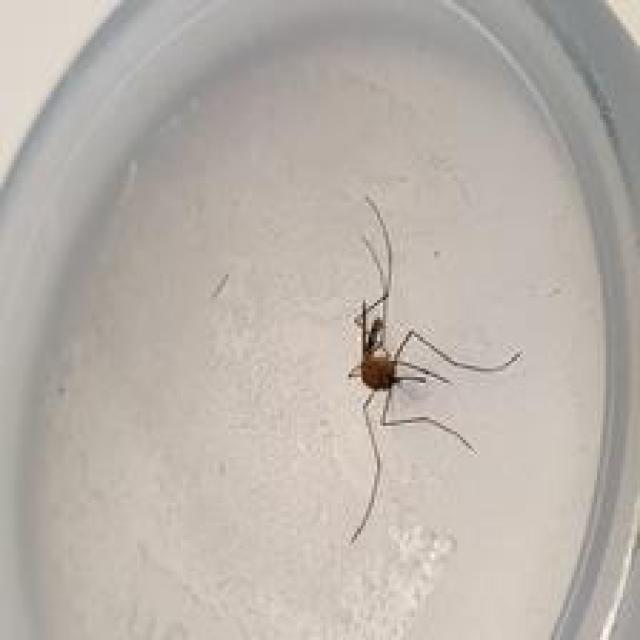Culex: (343, 193, 523, 544)
